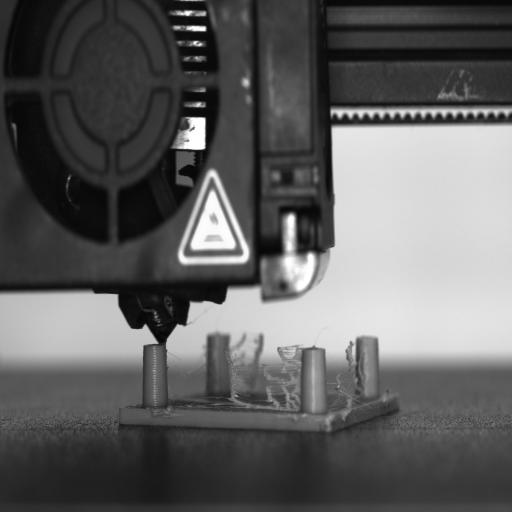spaghetti_and_stringing: (224, 331, 301, 409)
